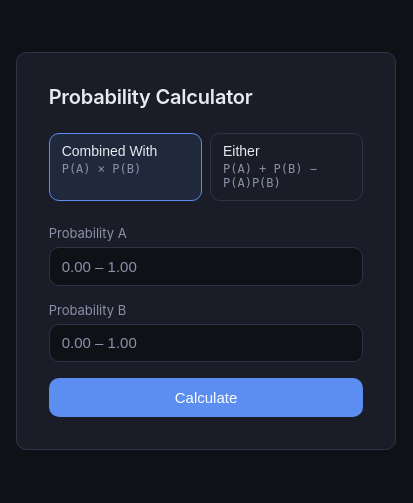
Test: App › displays error when calculation fails
This screenshot has width=413, height=503.
Type "0.5" into the number field labelled "Probability A".
click(206, 266); type("0.5")  # box [49,247,363,286]
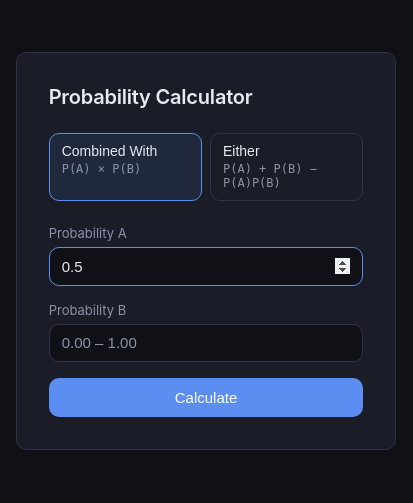
Type "0.6" into the number field labelled "Probability B".
click(206, 343); type("0.6")  # box [49,324,363,362]
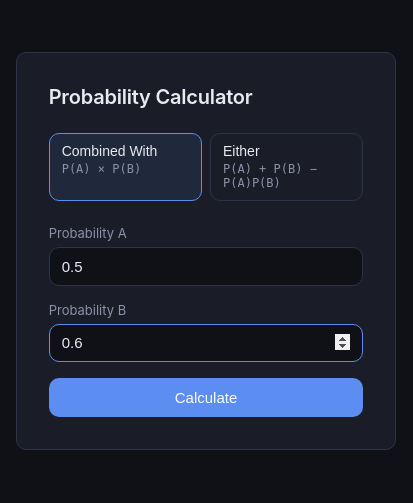
Click the button "Calculate".
click(206, 398)  # box [49,378,363,418]
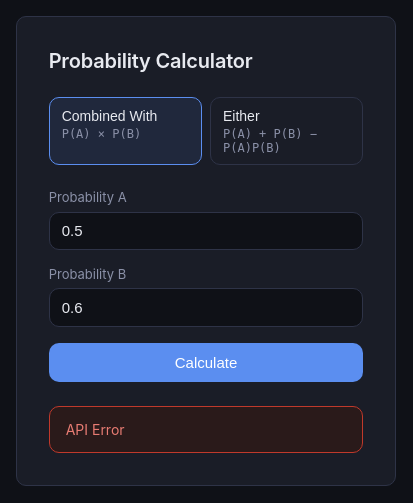
Expected: the message reads "API Error", [66,421,125,438]
